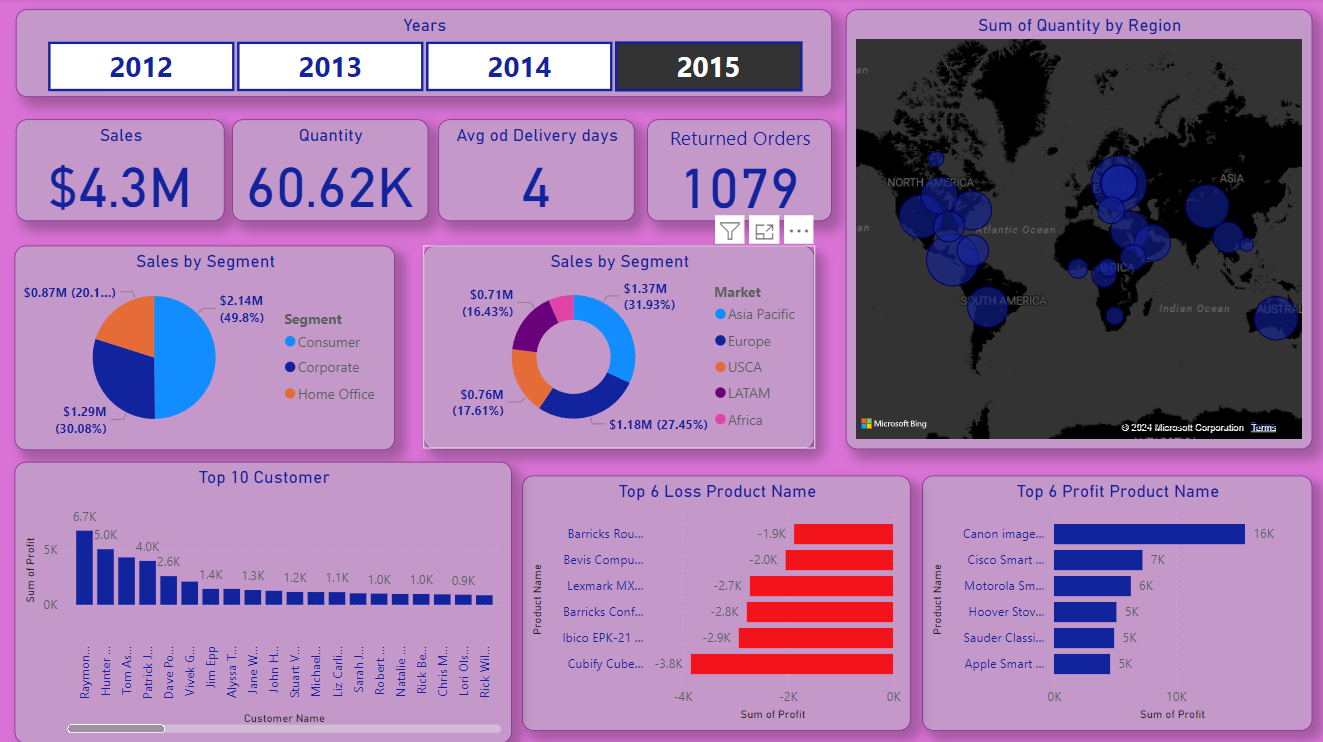

The dashboard page shown, as its layout file describes it:
{"tool":"powerbi","page":{"name":"Page 1","canvas":[1280,720],"ordinal":0},"visuals":[{"type":"card","title":"Sales","fields":{"Values":["Sum(Orders.Sales)"]},"box":[17.8,116.6,201.7,98.8],"z":0},{"type":"card","title":"Quantity","fields":{"Values":["Sum(Orders.Quantity)"]},"box":[226.4,116.6,189.4,98.8],"z":1000},{"type":"card","title":"Avg od Delivery days","fields":{"Values":["Avg(Orders.Delivery Days)"]},"box":[425.4,116.6,189.4,98.8],"z":2000},{"type":"slicer","title":"Years","fields":{"Values":["Orders.Year"]},"box":[17.8,11,787.7,85.1],"z":3000},{"type":"card","title":"Returned Orders","fields":{"Values":["Sum(Returns.Return Orders)"]},"box":[627.1,116.6,178.4,98.8],"z":4000},{"type":"map","fields":{"Category":["Orders.Region"],"Size":["Sum(Orders.Quantity)"]},"box":[819.8,10.5,450,424.4],"z":5000},{"type":"clusteredBarChart","title":"Top 6 Profit  Product Name","fields":{"Y":["Sum(Orders.Profit)"],"Category":["Orders.Product Name"]},"box":[893,460.5,376.7,246.5],"z":6000},{"type":"clusteredBarChart","title":"Top 6 Loss Product Name","fields":{"Y":["Sum(Orders.Profit)"],"Category":["Orders.Product Name"]},"box":[507,460.5,375.6,246.5],"z":7000},{"type":"pieChart","title":"Sales by Segment","fields":{"Category":["Orders.Segment"],"Y":["Sum(Orders.Sales)"]},"box":[17.4,238.4,367.4,197.7],"z":8000},{"type":"donutChart","title":"Sales by Segment","fields":{"Category":["Orders.Market"],"Y":["Sum(Orders.Sales)"]},"box":[411.6,238.4,377.9,196.5],"z":9000},{"type":"columnChart","title":"Top 10 Customer","fields":{"Y":["Sum(Orders.Profit)"],"Category":["Orders.Customer Name"]},"box":[17.4,447.7,480.2,272.1],"z":10000}]}

Visuals, with their boxes in screenshot pixels (x1, y1, x2, y2), scaled from the page's 1280x720 canvas onto the 1323x742 screenshot:
"Sales" card: bbox=(18, 120, 227, 222)
"Quantity" card: bbox=(234, 120, 430, 222)
"Avg od Delivery days" card: bbox=(440, 120, 635, 222)
"Years" slicer: bbox=(18, 11, 833, 99)
"Returned Orders" card: bbox=(648, 120, 833, 222)
map - Orders.Region x Sum(Orders.Quantity): bbox=(847, 11, 1312, 448)
"Top 6 Profit  Product Name" clusteredBarChart: bbox=(923, 475, 1312, 729)
"Top 6 Loss Product Name" clusteredBarChart: bbox=(524, 475, 912, 729)
"Sales by Segment" pieChart: bbox=(18, 246, 398, 449)
"Sales by Segment" donutChart: bbox=(425, 246, 816, 448)
"Top 10 Customer" columnChart: bbox=(18, 461, 514, 741)
